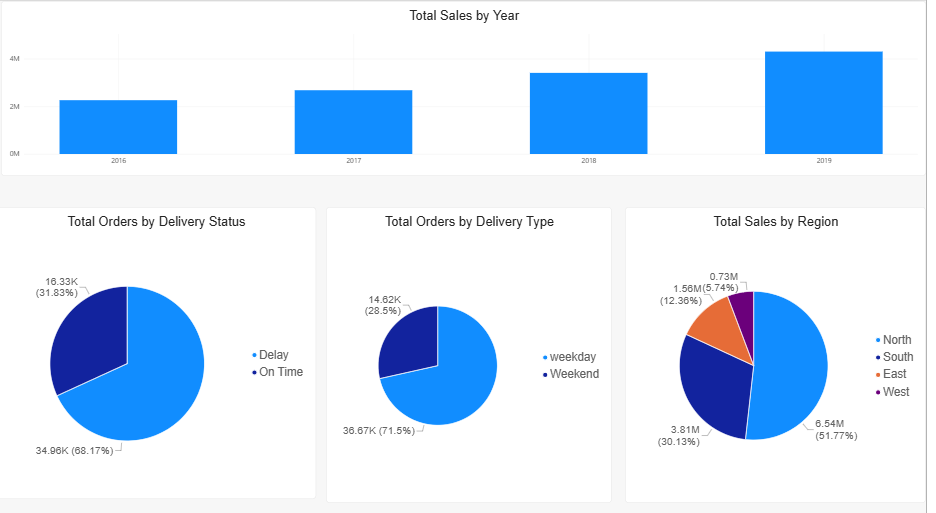

What the dashboard file says about the page in this screenshot:
{"tool":"powerbi","page":{"name":"Page 2","canvas":[1920,1080],"ordinal":1},"visuals":[{"type":"clusteredColumnChart","title":"Total Sales by Year","fields":{"Category":["Orders.Order Date.Variation.Date Hierarchy.Year","Orders.Order Date.Variation.Date Hierarchy.Quarter","Orders.Order Date.Variation.Date Hierarchy.Month","Orders.Order Date.Variation.Date Hierarchy.Day"],"Y":["Sum(Orders.Sales)"]},"box":[10,0,1910,360.9],"z":0},{"type":"pieChart","title":"Total Orders by Delivery Status","fields":{"Category":["Orders.delivery_status"],"Y":["CountNonNull(Orders.Order ID)"]},"box":[0,425.3,660.6,602.8],"z":1000},{"type":"pieChart","title":"Total Orders by Delivery Type","fields":{"Category":["Orders.order_day_type"],"Y":["CountNonNull(Orders.Order ID)"]},"box":[681.3,425.3,590.5,611.1],"z":2000},{"type":"pieChart","title":"Total  Sales by Region","fields":{"Category":["Orders.Region (groups)"],"Y":["Sum(Orders.Sales)"]},"box":[1298.6,425.3,621.4,611.1],"z":2001}]}

Visuals, with their boxes in screenshot pixels (x1, y1, x2, y2), scaled from the page's 1920x1080 canvas onto the 936x513 screenshot:
"Total Sales by Year" clusteredColumnChart: x1=5 y1=0 x2=935 y2=171
"Total Orders by Delivery Status" pieChart: x1=0 y1=202 x2=322 y2=488
"Total Orders by Delivery Type" pieChart: x1=332 y1=202 x2=620 y2=492
"Total  Sales by Region" pieChart: x1=633 y1=202 x2=935 y2=492
